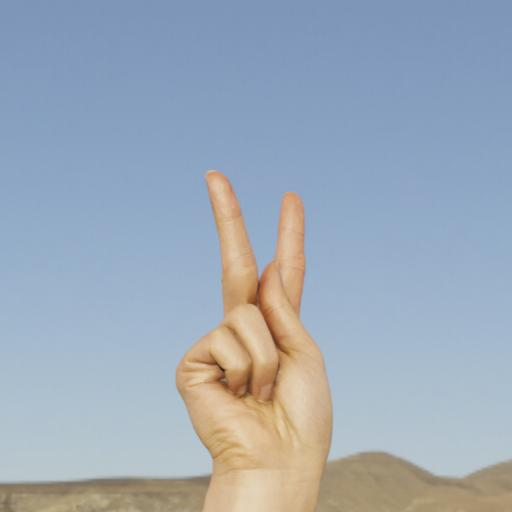K: (172, 166, 336, 473)
